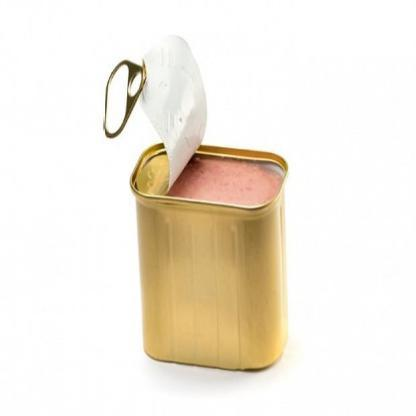spam: (136, 126, 289, 375)
